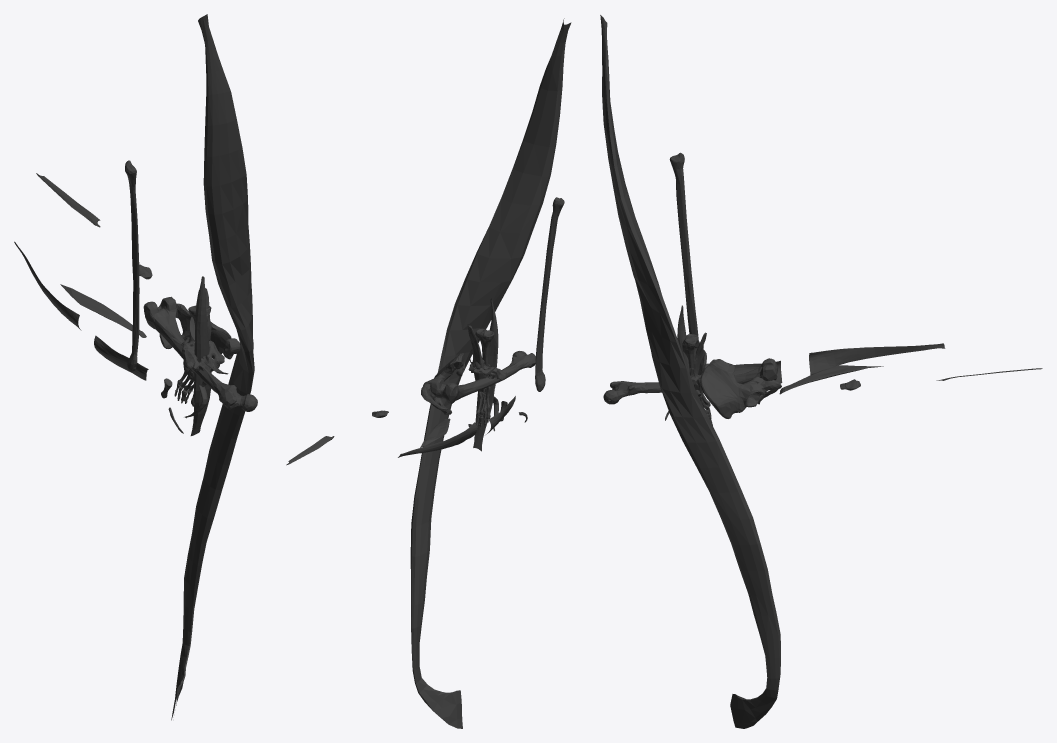
The model's file is sharedassets26.glb.
3 views of the same model, side by side, from view 1: azimuth 30°, elevation 25°; view 2: azimuth 150°, elevation 25°; view 3: azimuth 270°, elevation 25° (orthographic). The views are drawn at different scales.
Parts seen in each view (by area): view 1: 0053_Sartorius, R__1000361, 0091_Femur _thigh_, L_male_000854, 0052_Rectus femoris, R__1000351, 0030_Fibula _leg_, R__000928, 0044_S01-05 Sacrum__001242, 0090_Fibula _leg_, L__000922, 0056_Adductor longus, R__100019, 0055_Tensor fascia lata _fasciae latae_, R_fe, 0054_Iliotibial _Maissiat_s_ tract _band_, R_, 0031_Interosseous membrane of the leg _middle, 0058_Psoas major, R__1000339; view 2: 0053_Sartorius, R__1000361, 0030_Fibula _leg_, R__000928, 0091_Femur _thigh_, L_male_000854, 0052_Rectus femoris, R__1000351, 0054_Iliotibial _Maissiat_s_ tract _band_, R_, 0058_Psoas major, R__1000339; view 3: 0053_Sartorius, R__1000361, 0054_Iliotibial _Maissiat_s_ tract _band_, R_, 0090_Fibula _leg_, L__000922, 0095_Ilium, L_male_001003, 0051_Ilium, R__001012, 0091_Femur _thigh_, L_male_000854.
Boxes of the visible parts, left/top/right/bottom form: 0053_Sartorius, R__1000361: left=171, top=14, right=254, bottom=720; 0091_Femur _thigh_, L_male_000854: left=143, top=296, right=257, bottom=409; 0052_Rectus femoris, R__1000351: left=190, top=276, right=211, bottom=435; 0030_Fibula _leg_, R__000928: left=125, top=160, right=137, bottom=371; 0044_S01-05 Sacrum__001242: left=181, top=337, right=224, bottom=371; 0090_Fibula _leg_, L__000922: left=128, top=161, right=139, bottom=372; 0056_Adductor longus, R__100019: left=60, top=284, right=146, bottom=337; 0055_Tensor fascia lata _fasciae latae_, R_fe: left=94, top=335, right=148, bottom=380; 0054_Iliotibial _Maissiat_s_ tract _band_, R_: left=14, top=241, right=81, bottom=330; 0031_Interosseous membrane of the leg _middle: left=36, top=173, right=100, bottom=227; 0058_Psoas major, R__1000339: left=184, top=288, right=211, bottom=418; 0053_Sartorius, R__1000361: left=410, top=18, right=571, bottom=728; 0030_Fibula _leg_, R__000928: left=535, top=197, right=564, bottom=391; 0091_Femur _thigh_, L_male_000854: left=430, top=351, right=535, bottom=402; 0052_Rectus femoris, R__1000351: left=473, top=298, right=498, bottom=451; 0054_Iliotibial _Maissiat_s_ tract _band_, R_: left=398, top=422, right=477, bottom=457; 0058_Psoas major, R__1000339: left=467, top=324, right=498, bottom=431; 0053_Sartorius, R__1000361: left=600, top=15, right=780, bottom=728; 0054_Iliotibial _Maissiat_s_ tract _band_, R_: left=809, top=343, right=945, bottom=375; 0090_Fibula _leg_, L__000922: left=669, top=153, right=698, bottom=347; 0095_Ilium, L_male_001003: left=702, top=359, right=751, bottom=418; 0051_Ilium, R__001012: left=700, top=359, right=750, bottom=418; 0091_Femur _thigh_, L_male_000854: left=603, top=358, right=777, bottom=403.
Bounding box in the file's own units: 0.1953 × 1.09 × 0.6284.
1 material, 1 textured.
